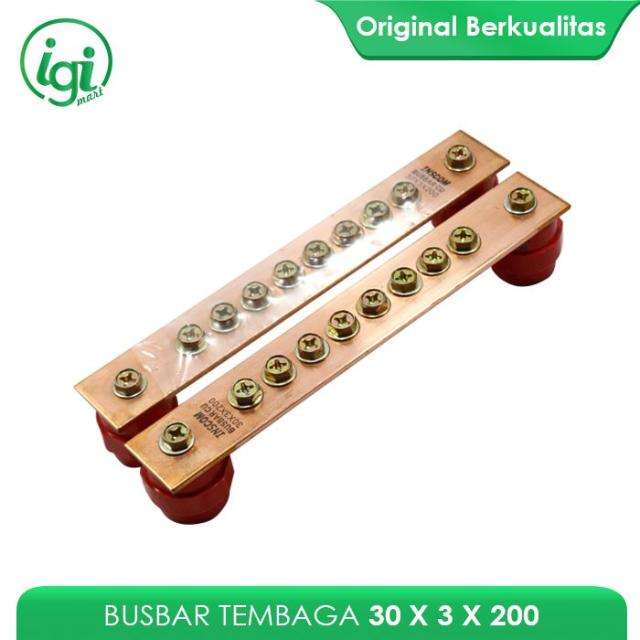busbar: (73, 128, 569, 523)
